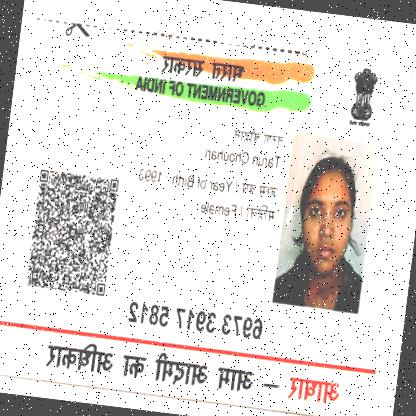aadhaar_card: (0, 2, 415, 415)
